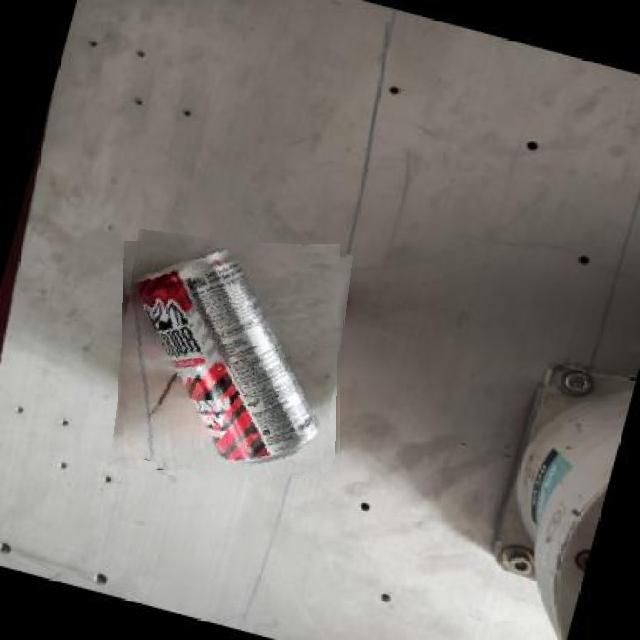recyclable: (118, 235, 346, 475)
